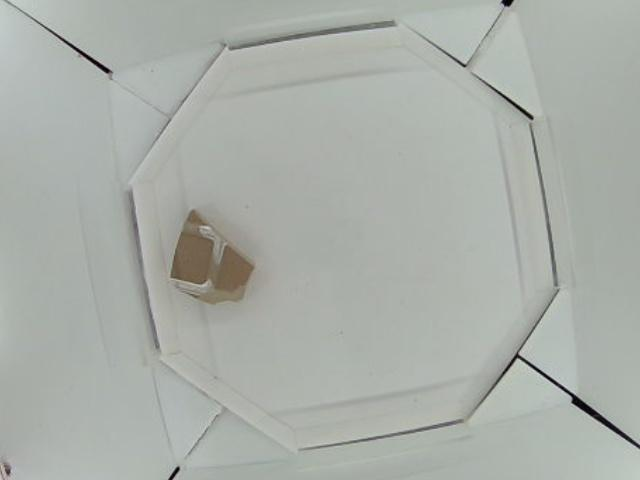China: (170, 211, 255, 306)
